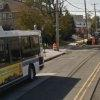Bus: (1, 26, 44, 88)
